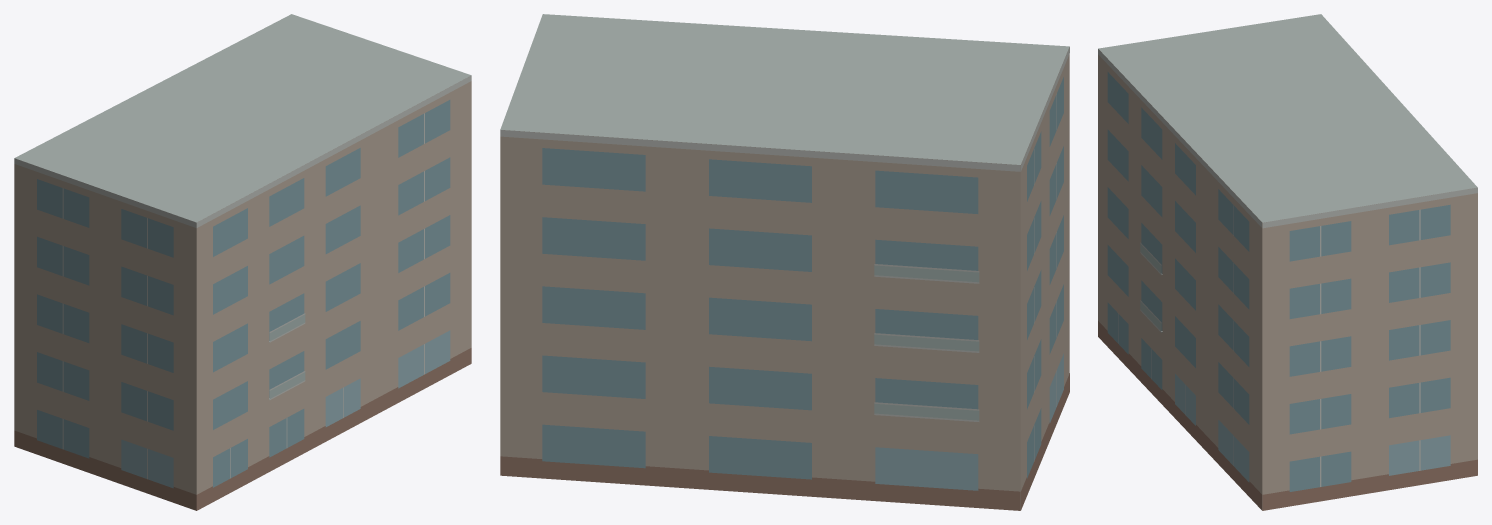
File: survey-upis-32970224.glb
The picture shows the model from 3 angles, left to right: view 1: azimuth 30°, elevation 25°; view 2: azimuth 150°, elevation 25°; view 3: azimuth 270°, elevation 25°; orthographic projection. The views are drawn at different scales.
Visible parts, largest first — view 1: survey-upis-32970224.tmp; view 2: survey-upis-32970224.tmp; view 3: survey-upis-32970224.tmp.
Part boxes in pixels (box(x1,y1,x2,y2)): survey-upis-32970224.tmp: box(14, 14, 471, 510); survey-upis-32970224.tmp: box(500, 14, 1069, 510); survey-upis-32970224.tmp: box(1098, 14, 1477, 510).
Size of the model in its own units: 19.3 by 12.42 by 14.84.
